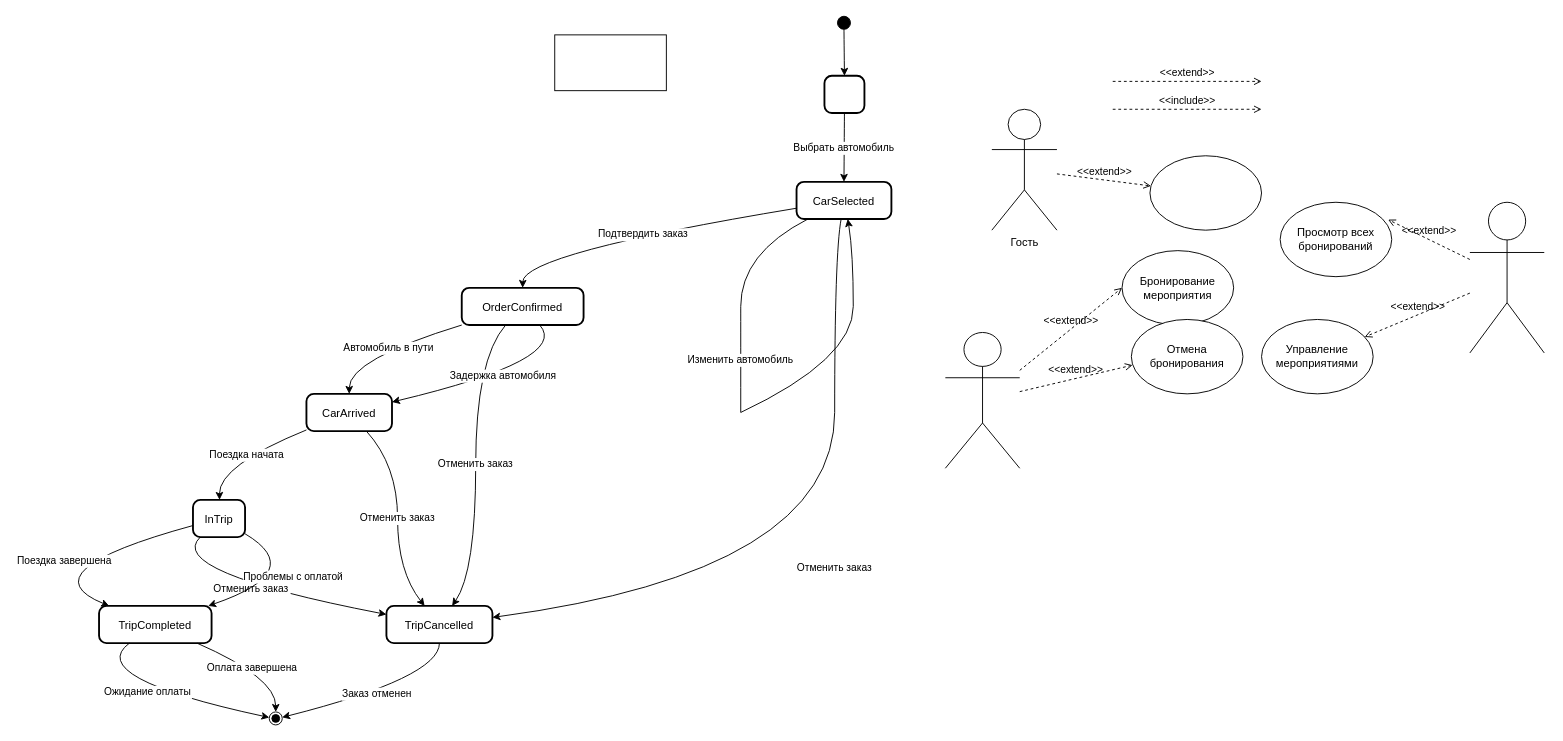
Some shapes in this 1563 by 741 pixel diagram are drawn without their labels. The shapes that lost their labels are listed below. From the top down, each one's box as (x1, y1, x2, y2) in pixels, then its label:
(554, 34, 666, 91): Задание 1
(823, 74, 865, 113): Idle
(1149, 155, 1262, 230): Просмотр мероприятий
(1469, 201, 1544, 353): Администратор
(944, 332, 1020, 468): Зарегистрированный пользователь
